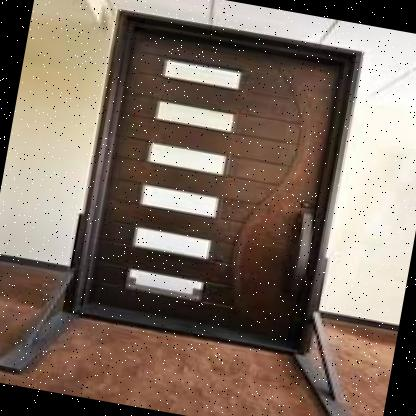door: (60, 1, 374, 364)
